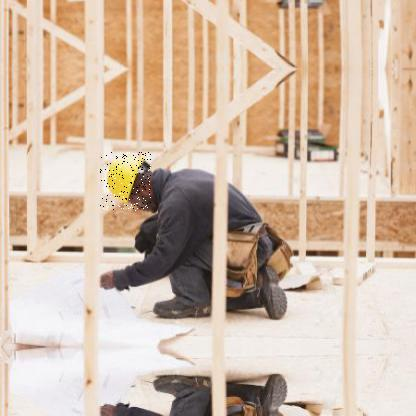safetyhelmet: (100, 152, 152, 212)
